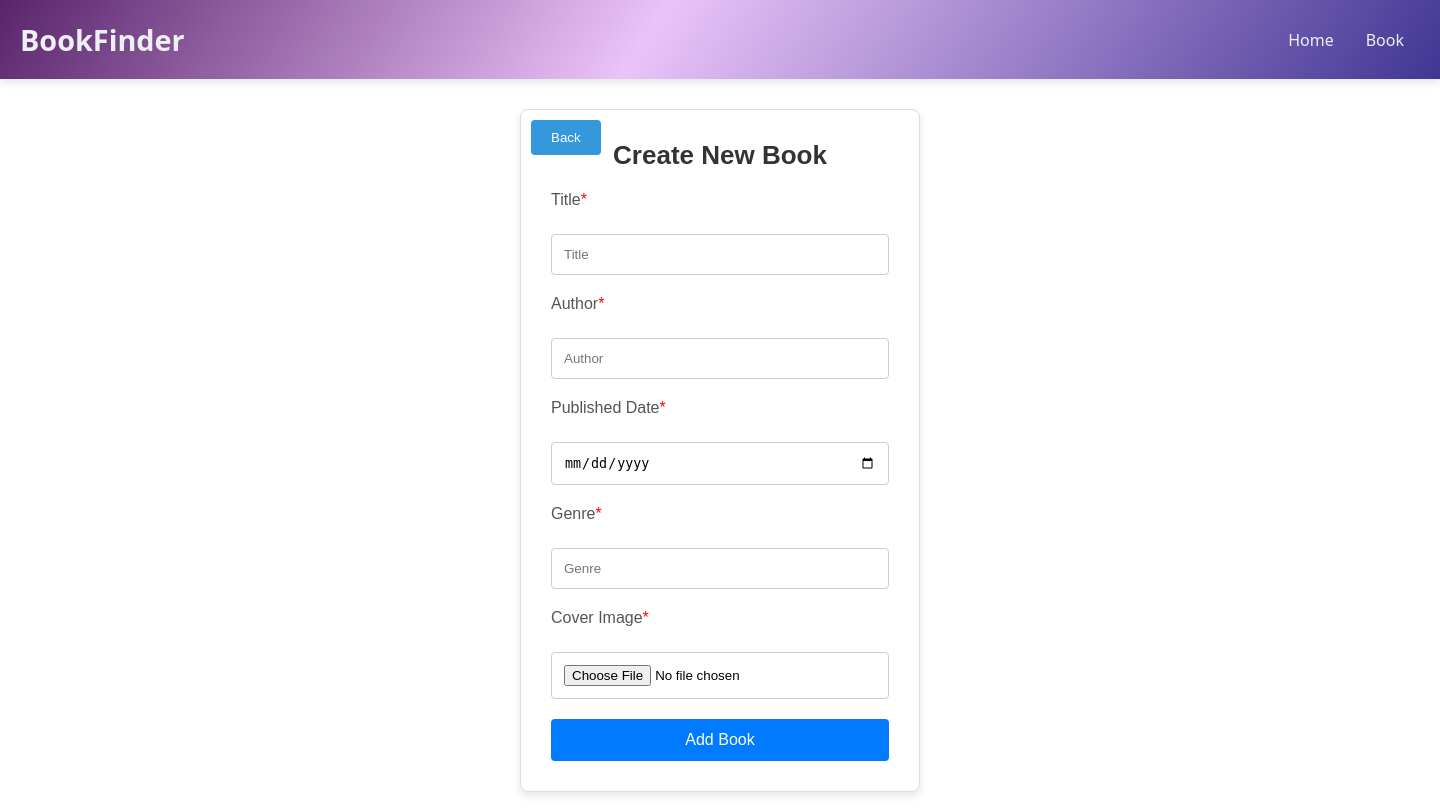
BookForm Component › frontend_bookform_showsValidationErrors
The image size is (1440, 810).
What coordinates should you click on to do the following:
click the button "Add Book"
I would click on:
 (720, 740)
Its box is [551,719,889,761].
(page scrolled)
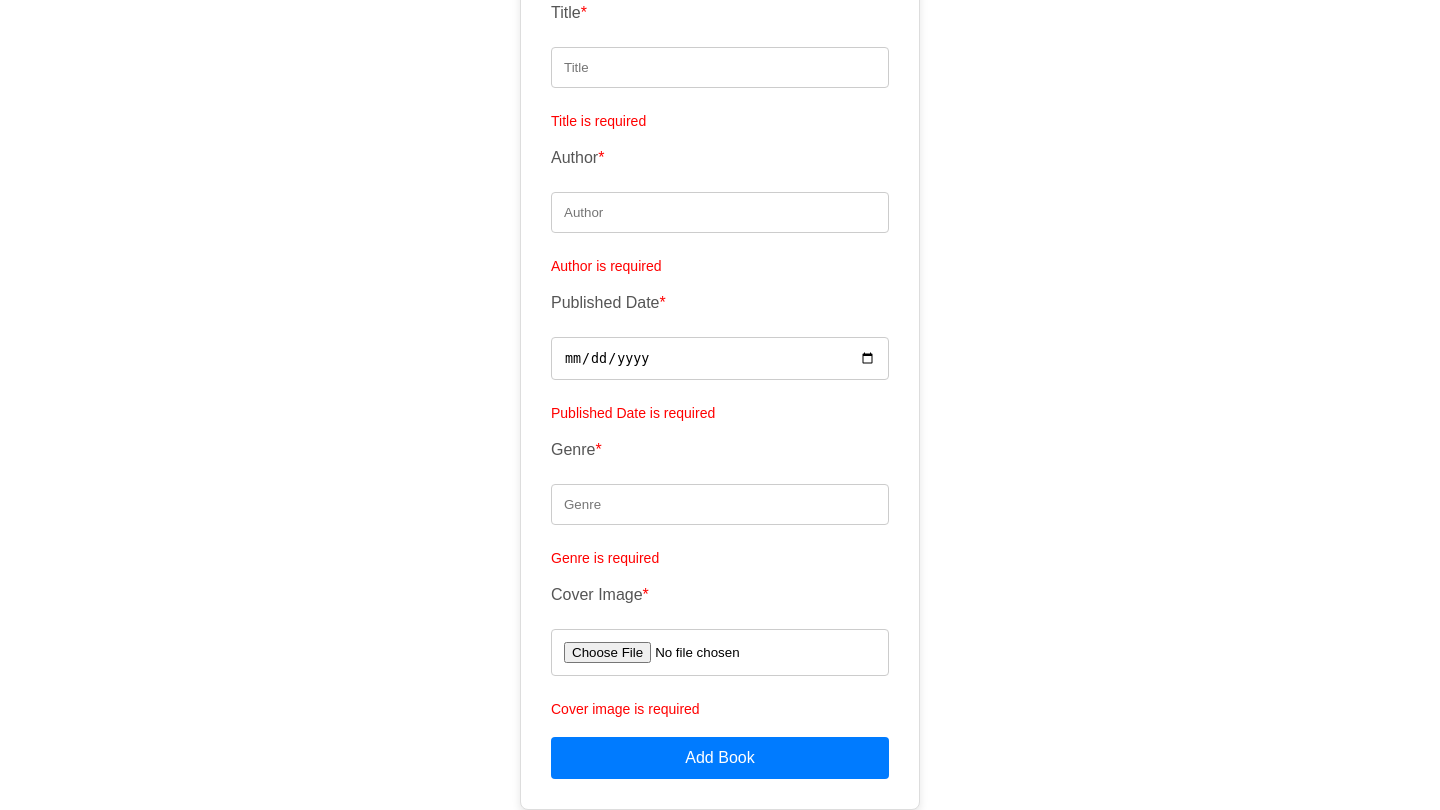
Expected: the text "Title is required" is shown, [551,113,646,129]
Expected: the text "Author is required" is shown, [551,258,662,274]
Expected: the text "Published Date is required" is shown, [551,405,715,421]
